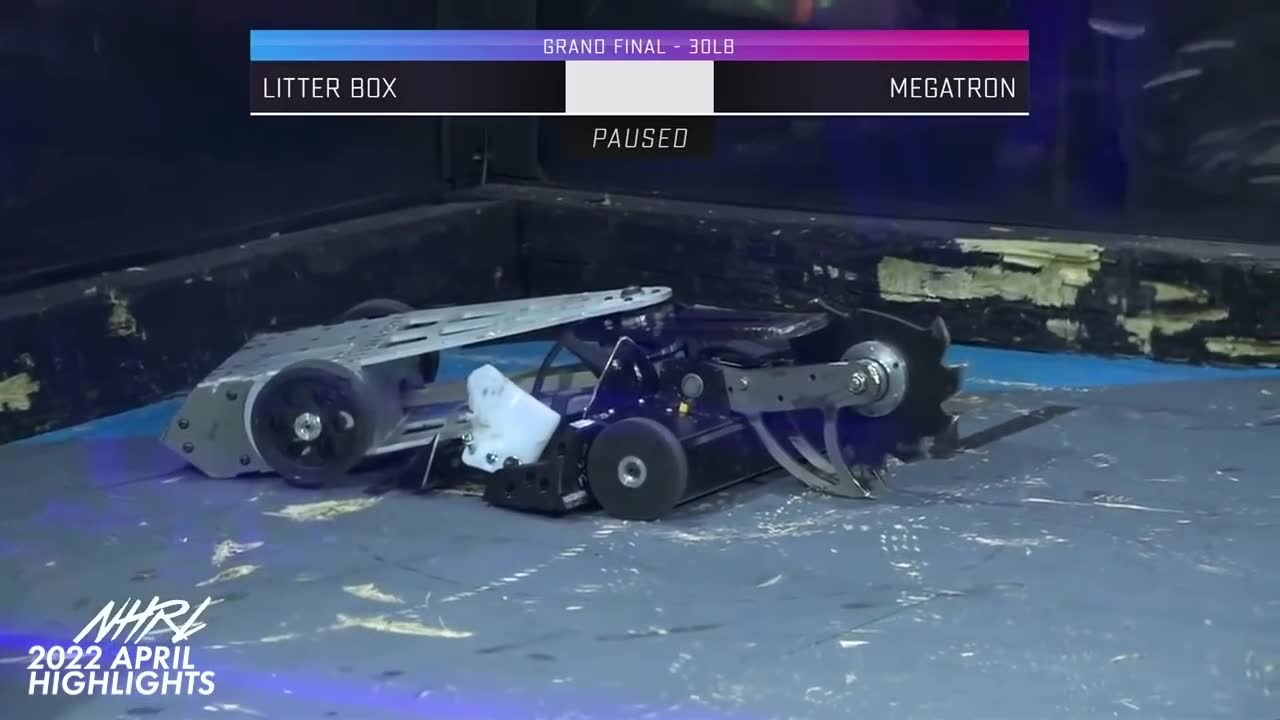combatbot: (159, 284, 828, 481), (390, 294, 963, 519)
